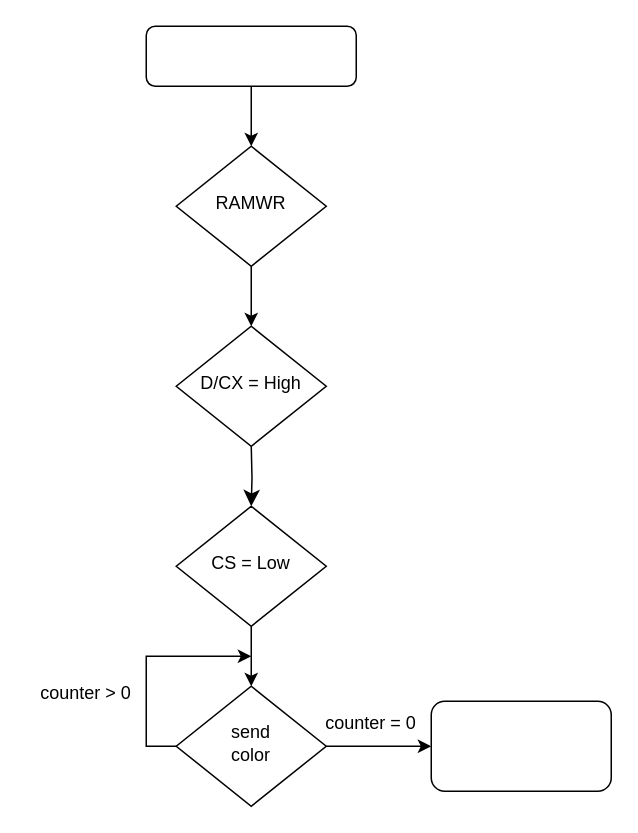
Image size: 638x833. Some labels were removed from this diagram. The centre of each missing label's shape, as x and y in pixels:
"CS = HIGH" goes at (x=520, y=745).
"st7735s_send_color()" goes at (x=250, y=55).
